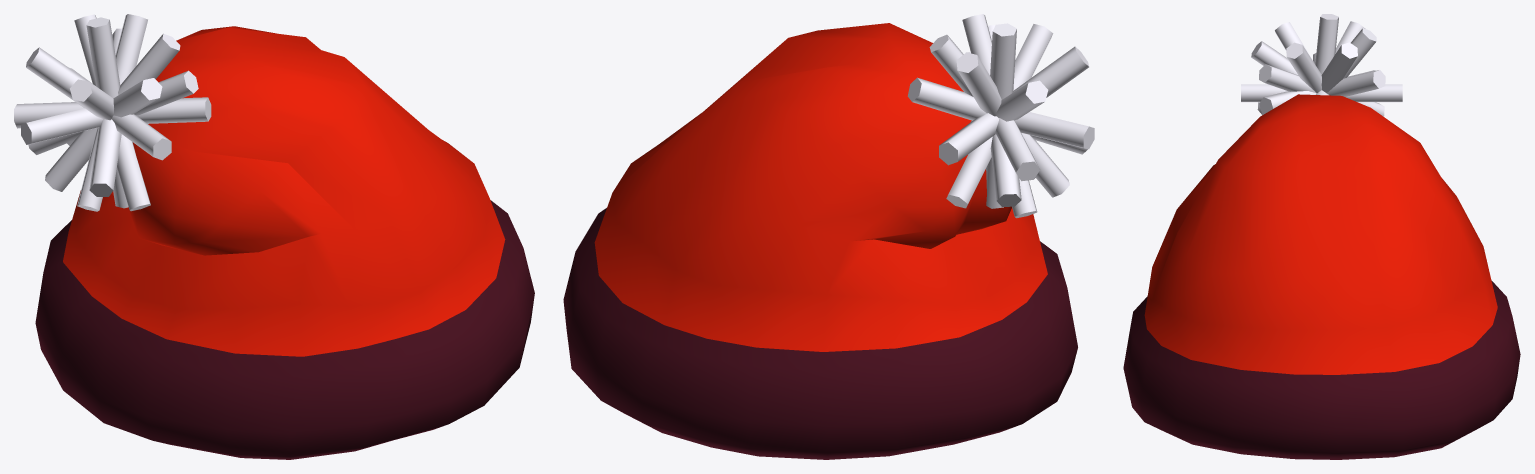
The model's file is Cap_01.fbx.
The picture shows the model from 3 angles, left to right: view 1: azimuth 30°, elevation 25°; view 2: azimuth 150°, elevation 25°; view 3: azimuth 270°, elevation 25°; orthographic projection. The views are drawn at different scales.
Visible parts, largest first — view 1: Cap_01; view 2: Cap_01; view 3: Cap_01.
Boxes of the visible parts, x1,y1,x2,y2 form: Cap_01: [14, 14, 534, 459]; Cap_01: [563, 14, 1094, 459]; Cap_01: [1123, 14, 1520, 459].
Bounding box in the file's own units: 0.787 × 0.618 × 0.7016.
